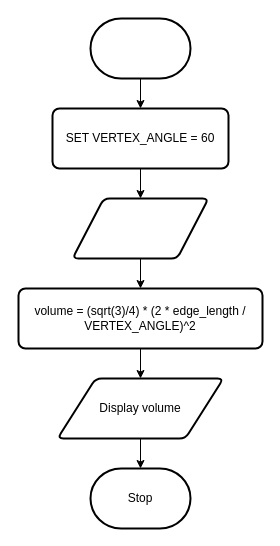
This 280x546 diagram has some shape labels left out. Each missing label, with the centre of its shape:
"Get edge_length" belongs at (x=140, y=228).
"Start" belongs at (x=140, y=48).
